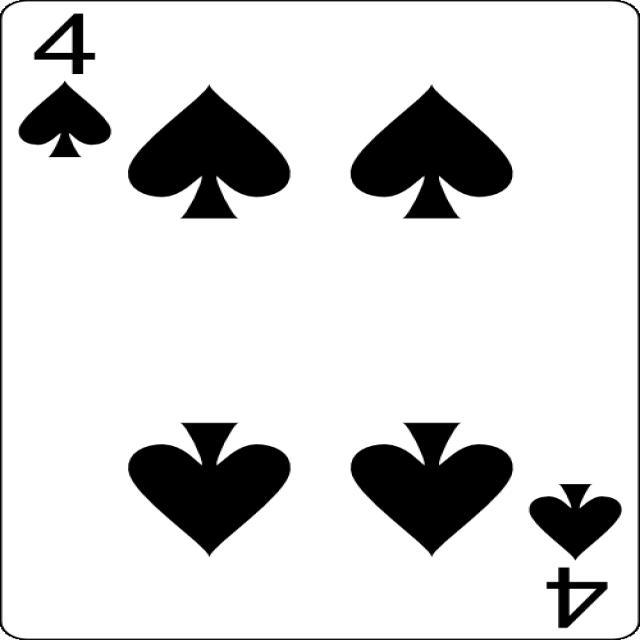Spade: (127, 84, 291, 219), (351, 83, 512, 219), (351, 422, 514, 556), (128, 423, 292, 556), (18, 80, 111, 158), (529, 483, 622, 560)
